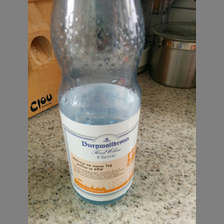water: (50, 1, 145, 204)
